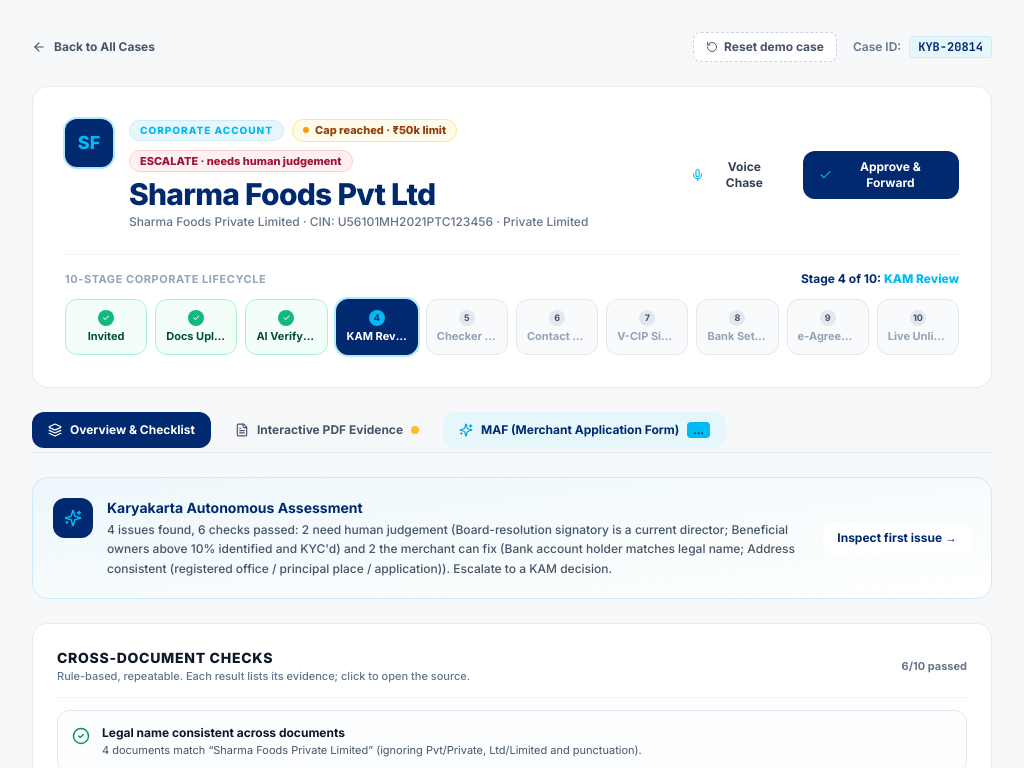
Case overview (live case) › prefills the number stored on the case
The width and height of the screenshot is (1024, 768).
Click the button "Voice Chase" at {"x": 735, "y": 174}, box 677,150 -> 793,198
(page scrolled)
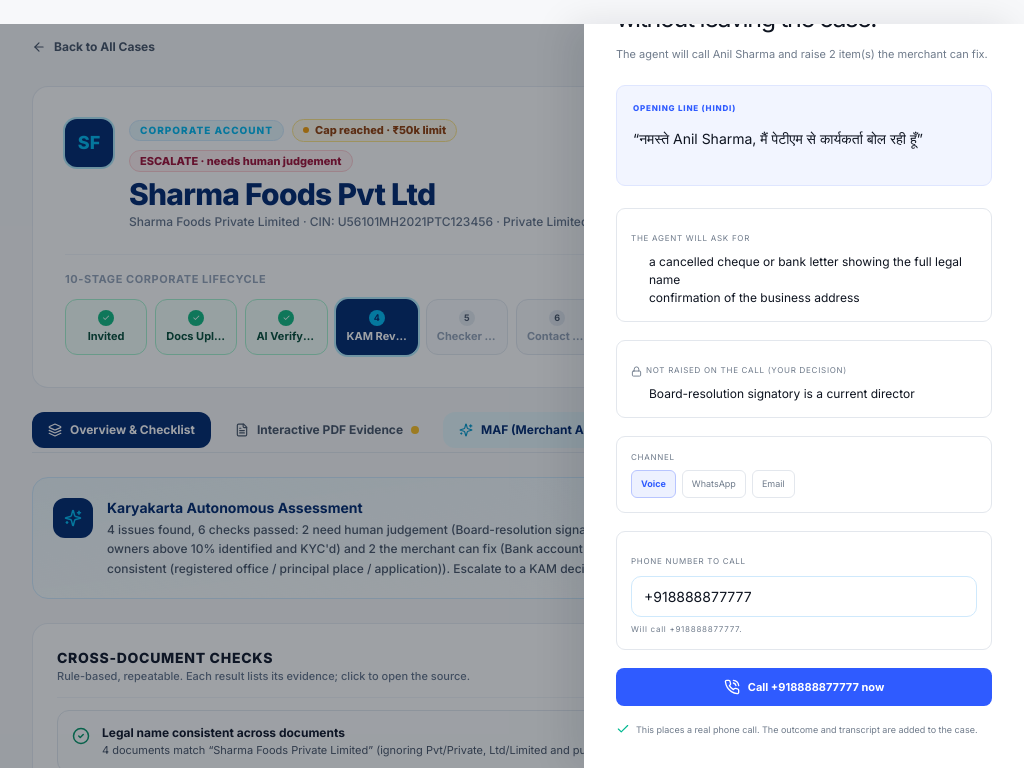
Check: the text "The agent will call" is shown, box 616,46 -> 988,60
Check: the field labelled "PHONE NUMBER TO CALL" holds "+918888877777", box 631,576 -> 977,617
Check: the button "Call +918888877777 now" is enabled, box 616,668 -> 992,706
